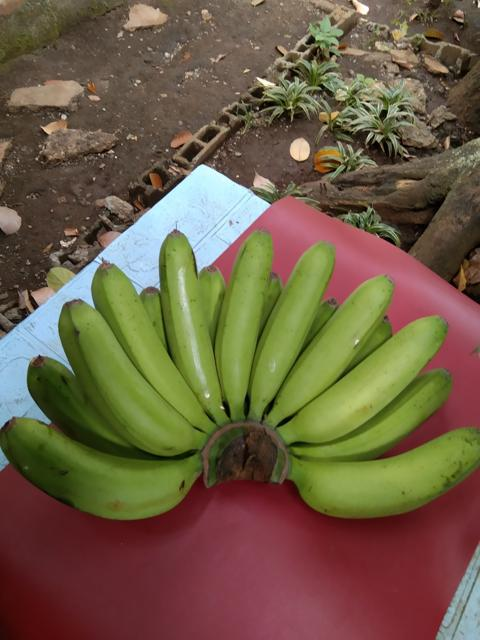freshunripe: (53, 296, 208, 451), (286, 309, 454, 442), (90, 256, 209, 427), (274, 271, 399, 419), (296, 417, 479, 517), (242, 236, 337, 419), (207, 220, 281, 419)
unripe: (0, 411, 214, 525)
